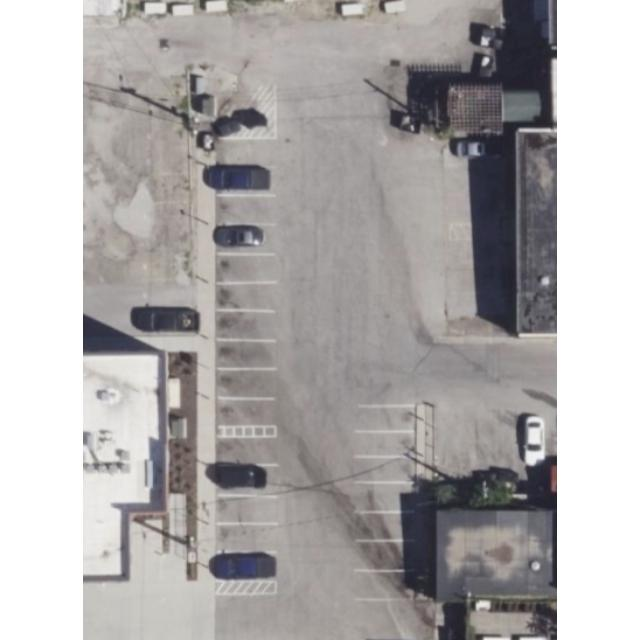Empty: (217, 369, 283, 399), (217, 398, 285, 426), (214, 195, 276, 225), (354, 571, 416, 601), (217, 311, 277, 341), (218, 496, 282, 524), (218, 524, 282, 552), (354, 512, 418, 540), (354, 542, 418, 570), (352, 484, 418, 511), (217, 341, 279, 369), (217, 438, 283, 464), (350, 406, 416, 432), (217, 254, 276, 282), (217, 138, 275, 166), (218, 283, 276, 311), (353, 456, 415, 482), (351, 432, 415, 456)
Parked: (215, 465, 281, 497), (212, 163, 276, 194), (216, 223, 276, 254), (216, 551, 278, 581), (446, 138, 506, 162)
